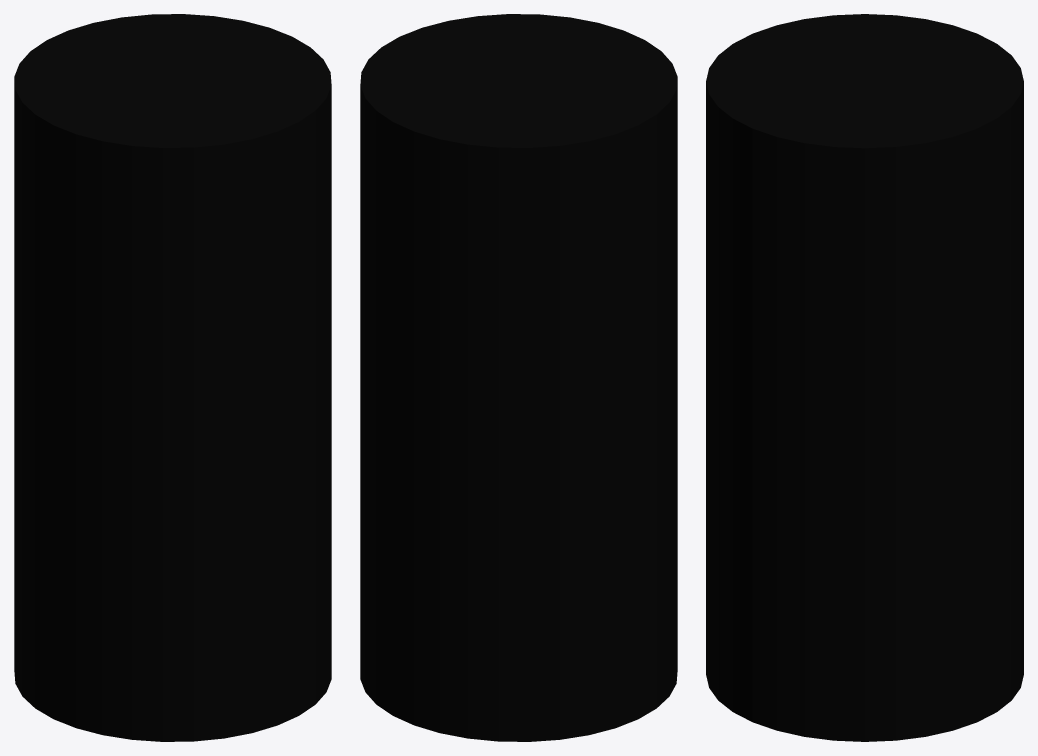
File: player1.obj
3 renders of one model, left to right at view 1: azimuth 30°, elevation 25°; view 2: azimuth 150°, elevation 25°; view 3: azimuth 270°, elevation 25°, orthographic.
Visible parts, largest first — view 1: Player1_Cylinder; view 2: Player1_Cylinder; view 3: Player1_Cylinder.
Boxes of the visible parts, x1,y1,x2,y2 form: Player1_Cylinder: (14, 14, 331, 741); Player1_Cylinder: (360, 14, 677, 741); Player1_Cylinder: (706, 14, 1023, 741).
Bounding box in the file's own units: 0.883 × 1.82 × 0.883.
1 material, 1 textured.
